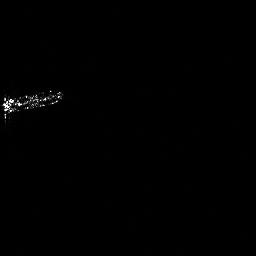ship: (3, 88, 62, 113)
